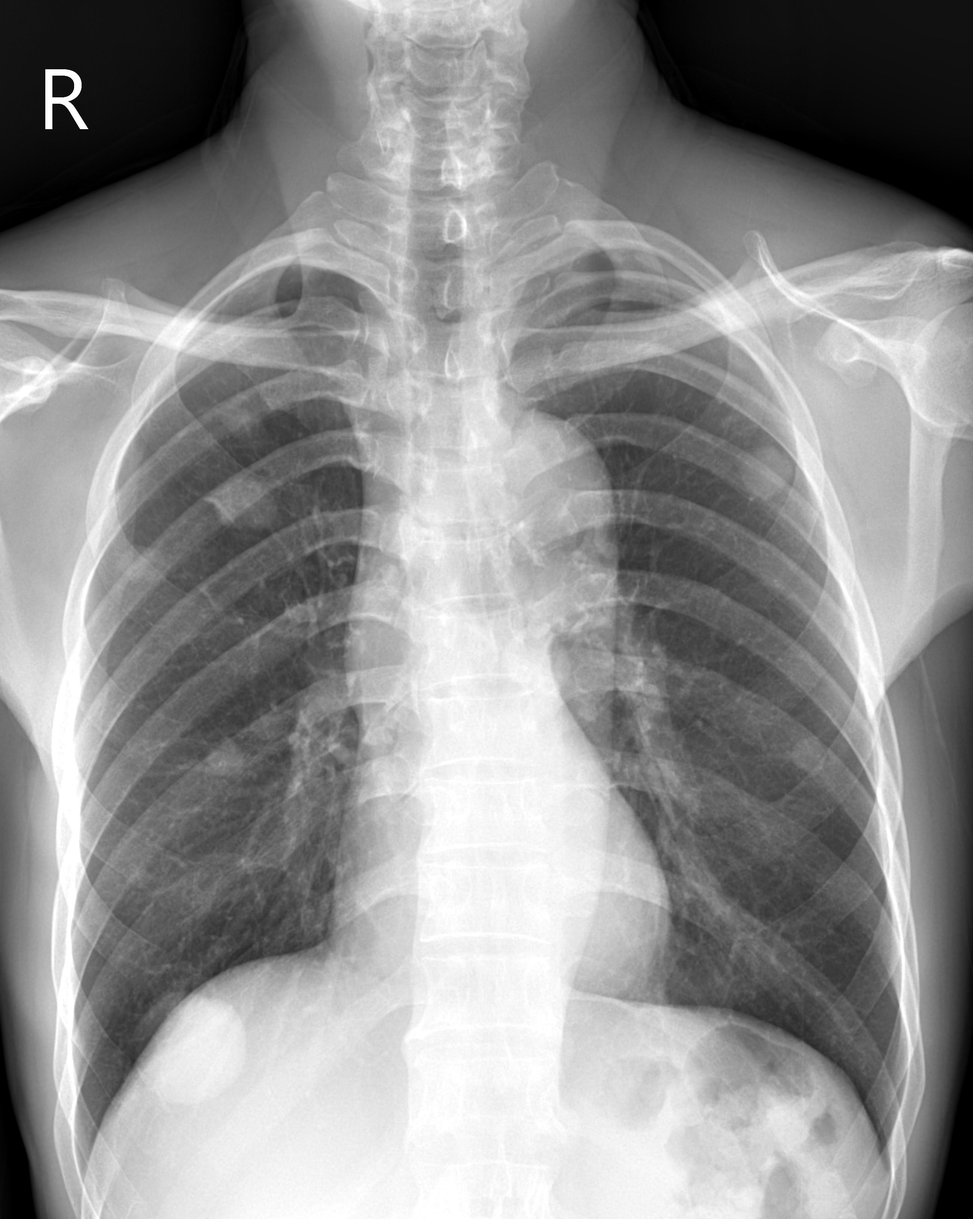Aortic enlargement: (448, 410, 619, 605)
